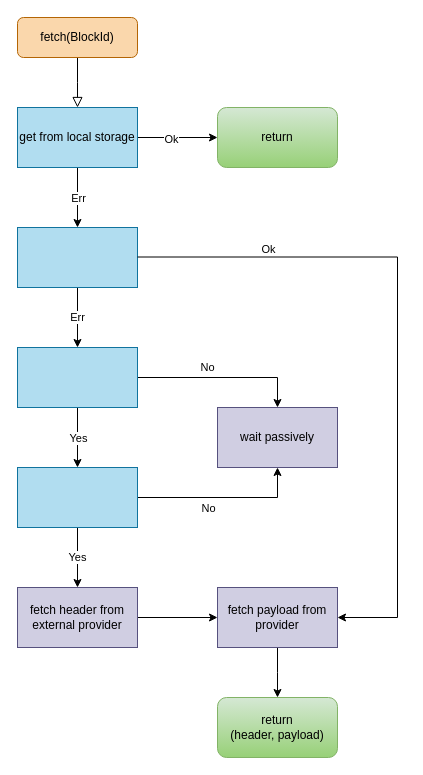
The diagram is 423 pixels wide and 775 high, and some of its shapes have lost their labels. The centre of each missing label's shape, as x and y in pixels:
get header from local storage: pixel 77 257
looking up by height?: pixel 77 377
requested height < current height?: pixel 77 497
